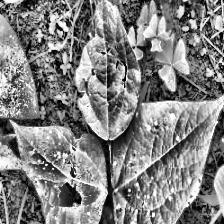Bean Rust: (110, 90, 224, 224), (10, 114, 106, 224), (0, 4, 41, 120)
